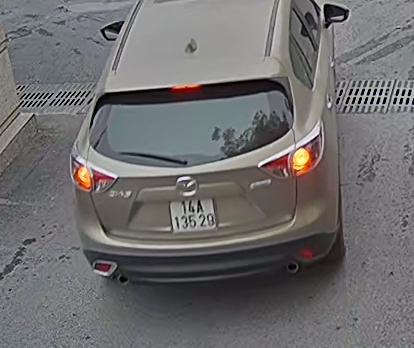vehicle plate: (161, 192, 216, 231)
